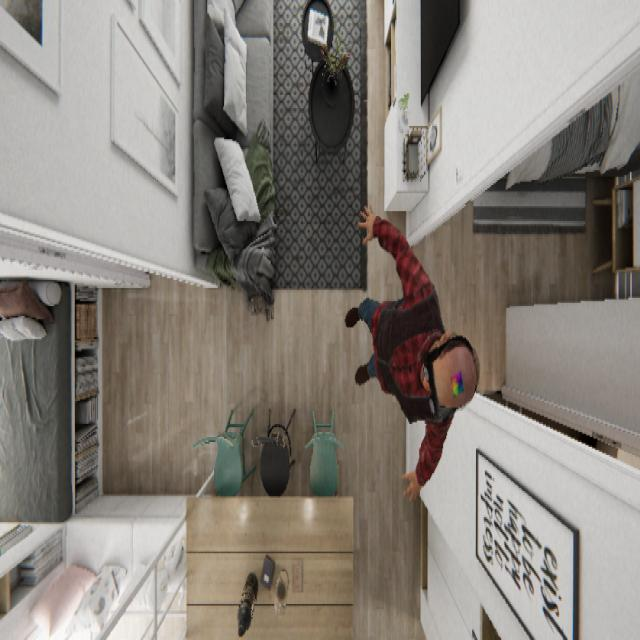Colored-Marker: (448, 367, 465, 398)
Human: (344, 202, 480, 502)
